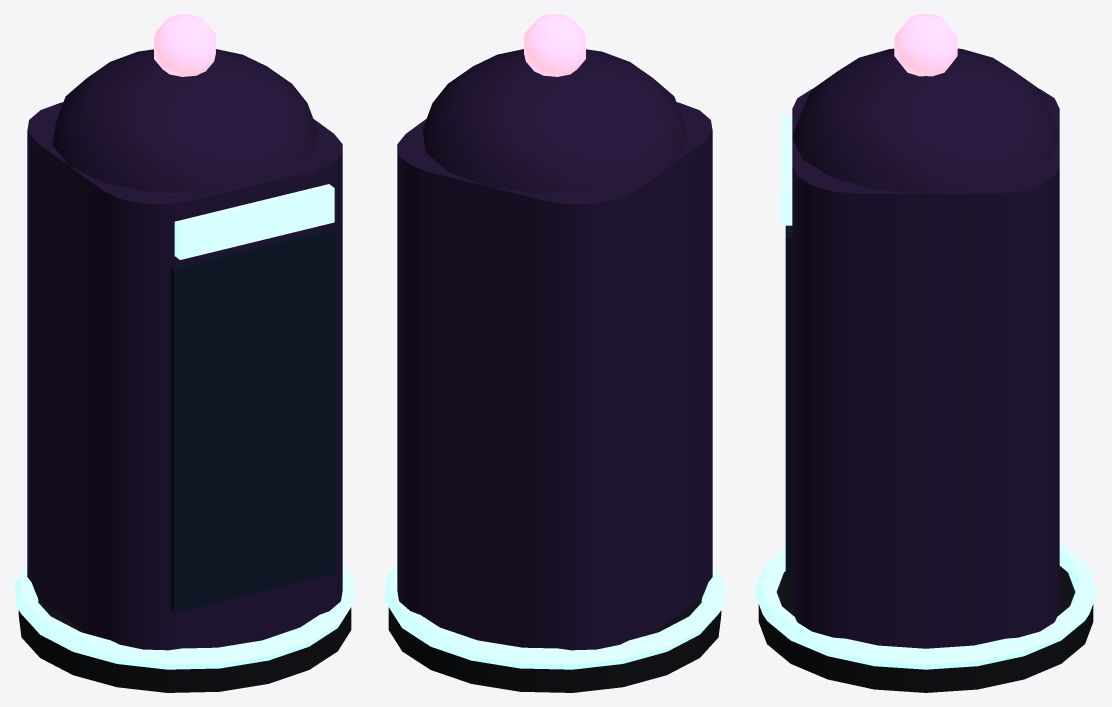
The model's file is booth_tele.glb.
The picture shows the model from 3 angles, left to right: view 1: azimuth 30°, elevation 25°; view 2: azimuth 150°, elevation 25°; view 3: azimuth 270°, elevation 25°; orthographic projection.
Visible parts, largest first — view 1: booth_tele; view 2: booth_tele; view 3: booth_tele.
Boxes of the visible parts, left/top/right/bottom form: booth_tele: left=14, top=14, right=355, bottom=692; booth_tele: left=384, top=14, right=725, bottom=692; booth_tele: left=754, top=14, right=1097, bottom=692.
Size of the model in its own units: 1.54 by 3 by 1.54.
